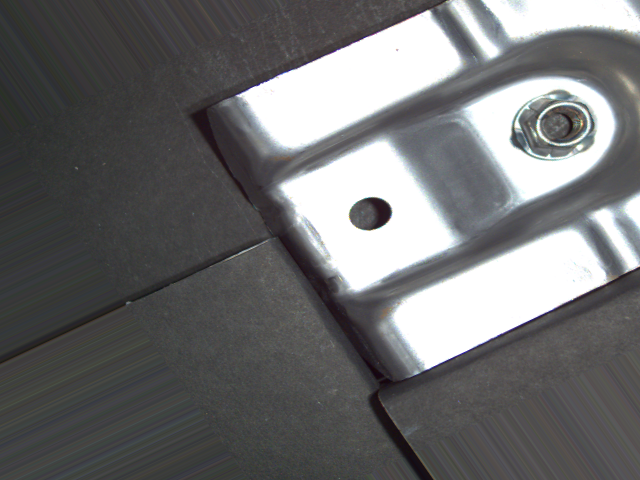good: (509, 84, 604, 167)
